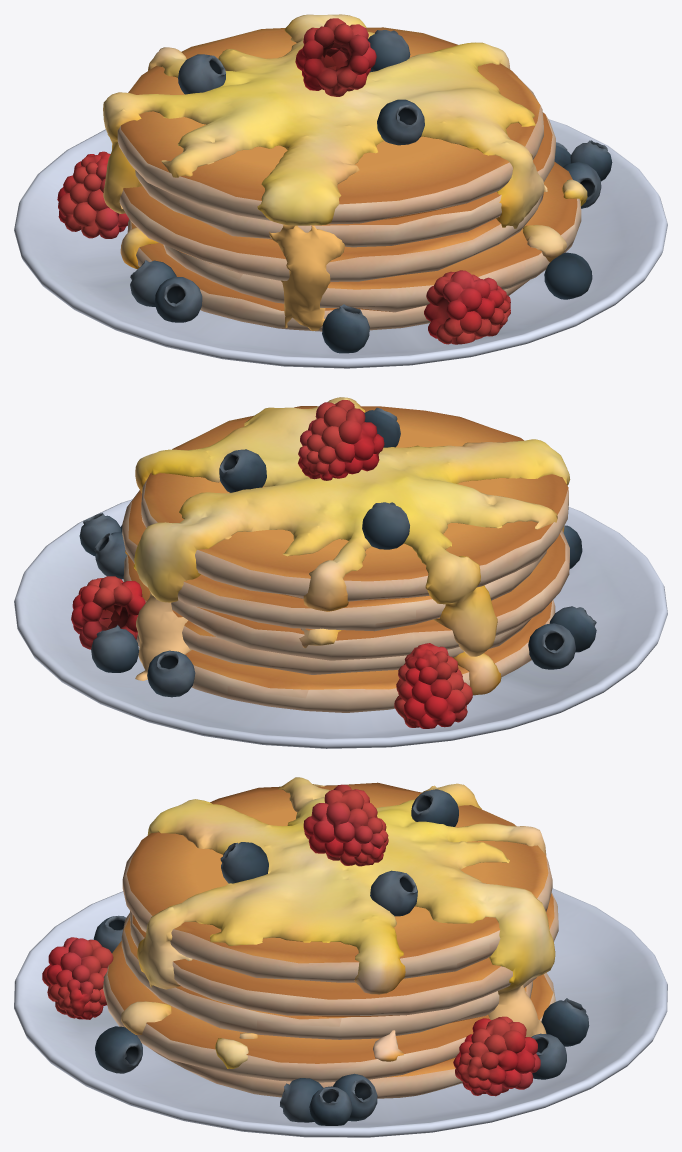
The picture shows the model from 3 angles, top to bottom: view 1: azimuth 30°, elevation 25°; view 2: azimuth 150°, elevation 25°; view 3: azimuth 270°, elevation 25°; orthographic projection.
Parts seen in each view (by area): view 1: Pancakes_1; view 2: Pancakes_1; view 3: Pancakes_1.
Part boxes in pixels (x1,y1,x2,y2): Pancakes_1: (14, 14, 667, 368); Pancakes_1: (14, 397, 667, 748); Pancakes_1: (14, 777, 667, 1137).
Bounding box in the file's own units: 0.263 × 0.1033 × 0.263.
1 material, 1 textured.
